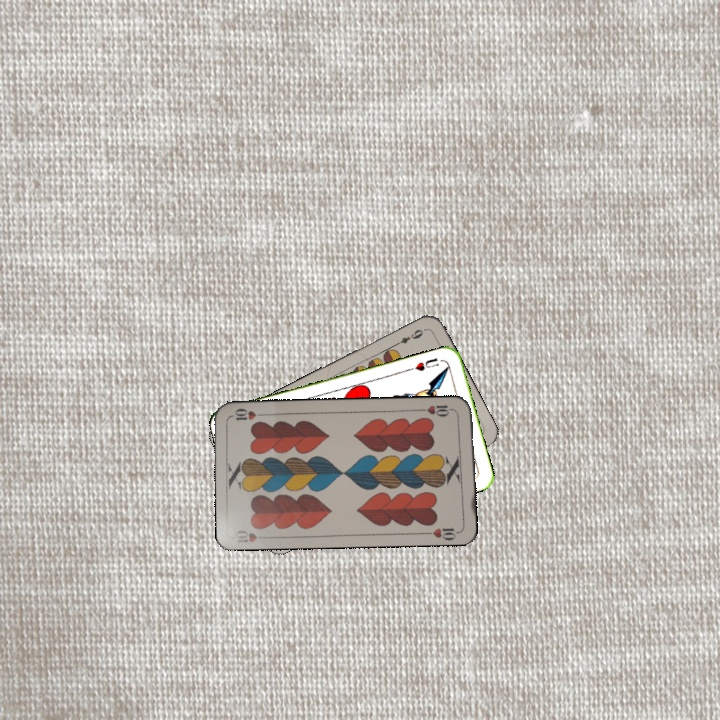E9: (390, 325, 428, 349)
H10: (417, 400, 457, 419), (232, 526, 272, 545)
HU: (405, 353, 441, 374)
